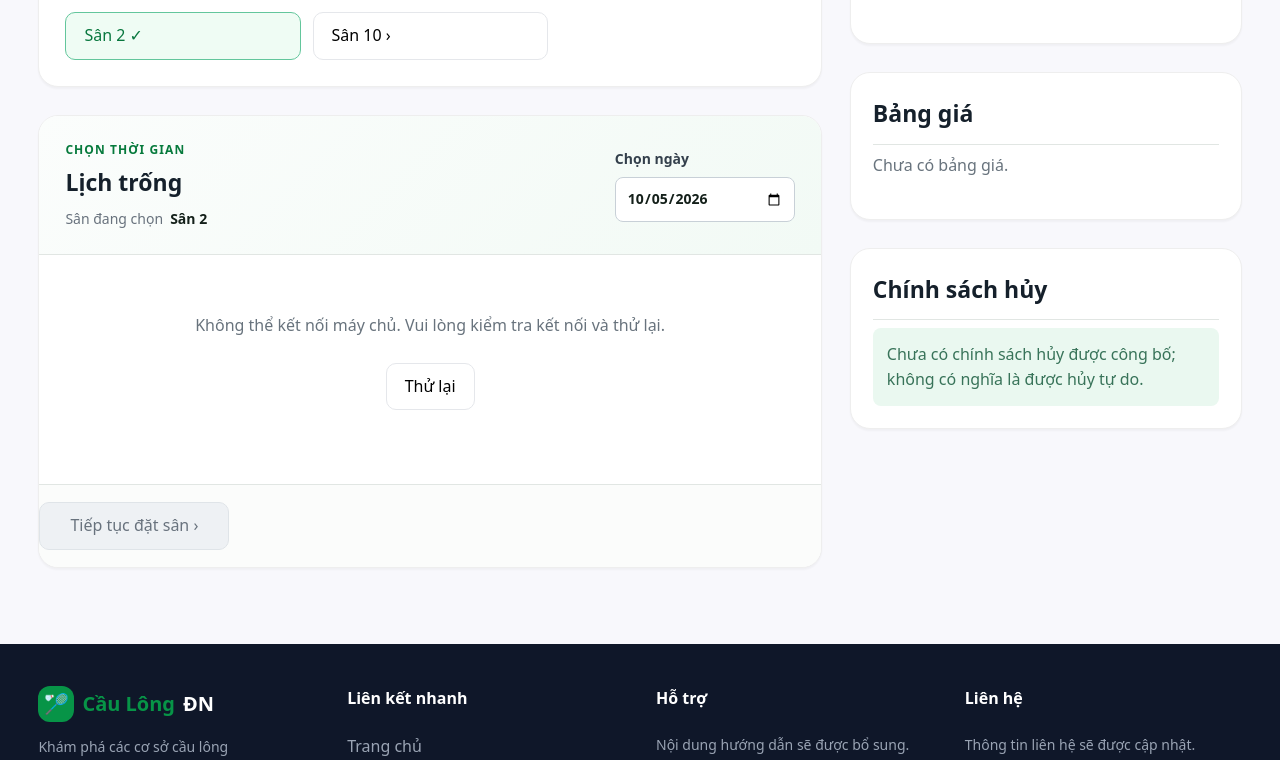
Test: network failure retries to distinct empty state
(page scrolled)
Expected: the message "Không thể kết nối máy chủ. Vui lòng kiểm tra kết nối và thử lại. Thử lại" is shown, [195,314,665,410]
Step 1. Click the button "Thử lại" → (430, 386), box [386,363,475,410]
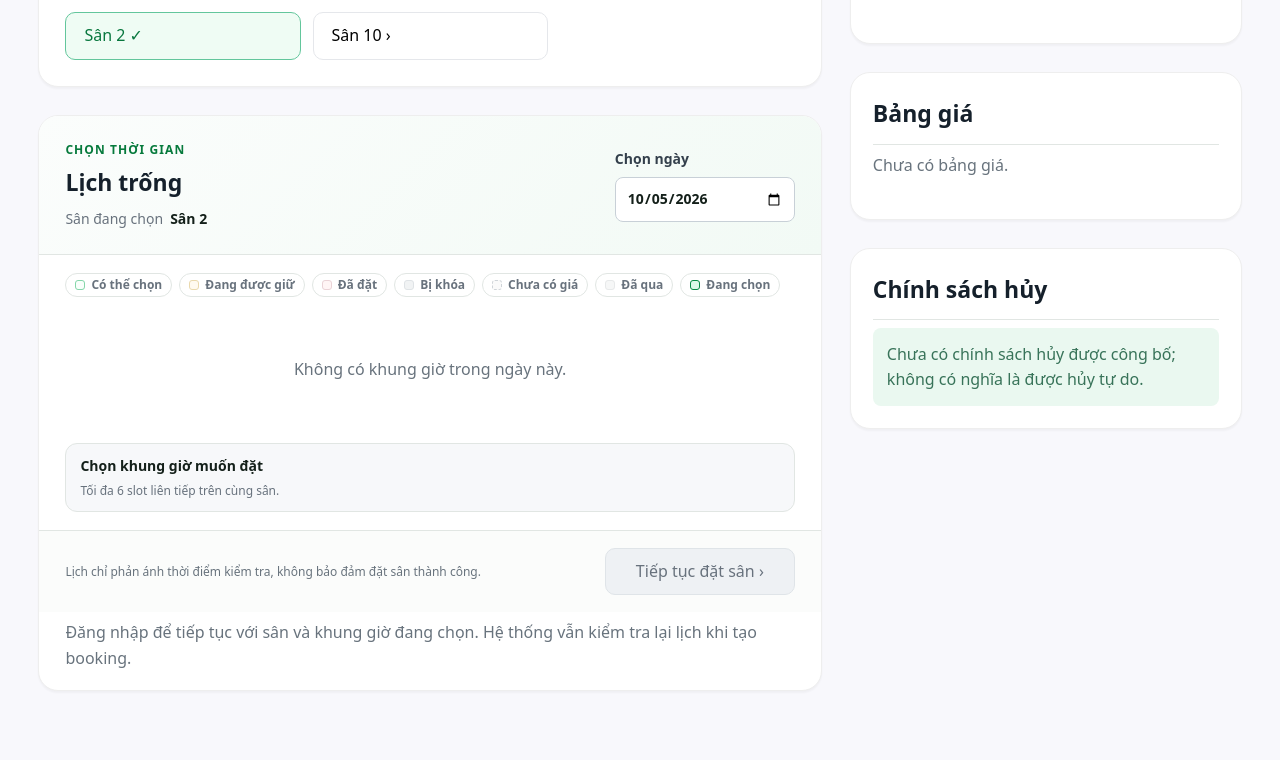
Expected: the text "Không có khung giờ trong ngày này." is shown, [294,358,566,380]
